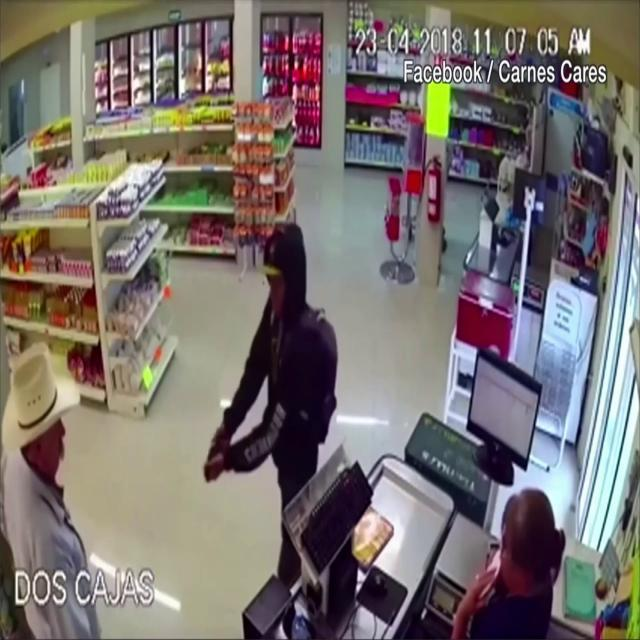gun: (203, 426, 228, 482)
